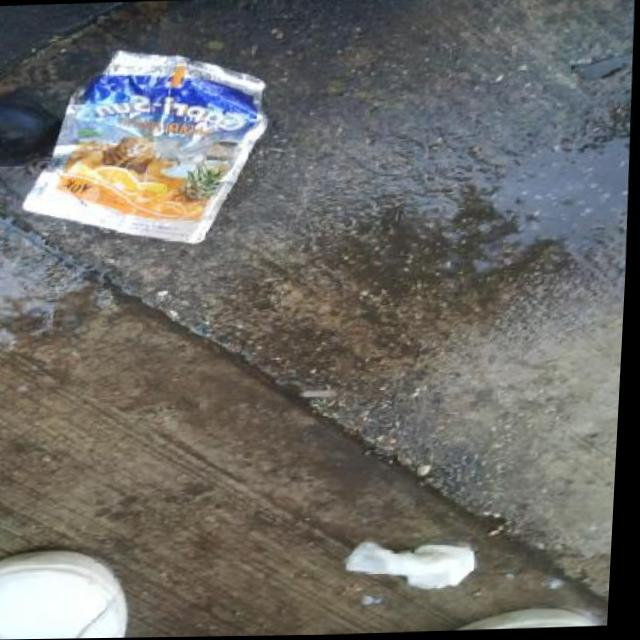paper: (15, 369, 77, 507)
plastic: (376, 19, 590, 273)
